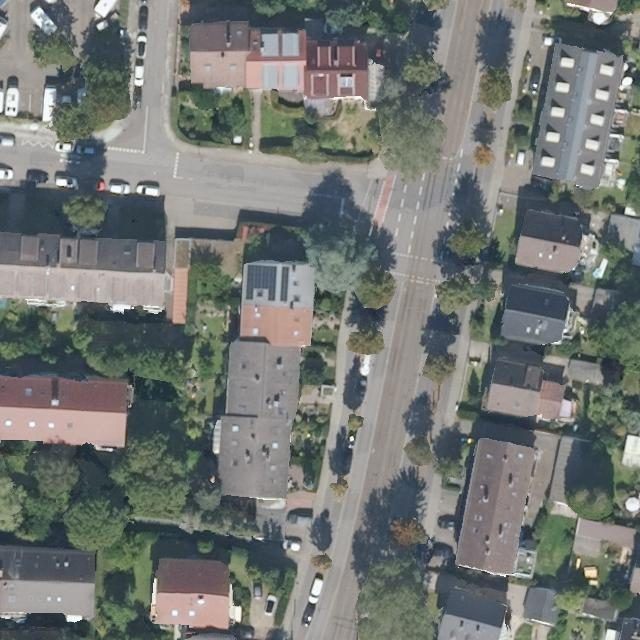PV: (244, 263, 279, 303), (279, 265, 291, 303)
